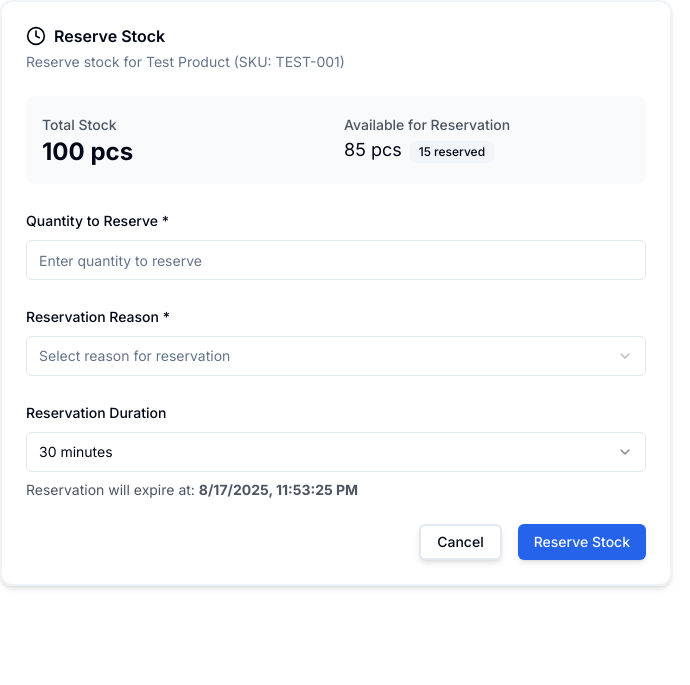
Test: StockReservationForm › shows warning for high percentage reservations
Check: the text "85 pcs" is shown, box [344,139,494,163]
Type "70" into the number field labelled "Quantity to Reserve *" at (336, 260), box [26,240,646,280]
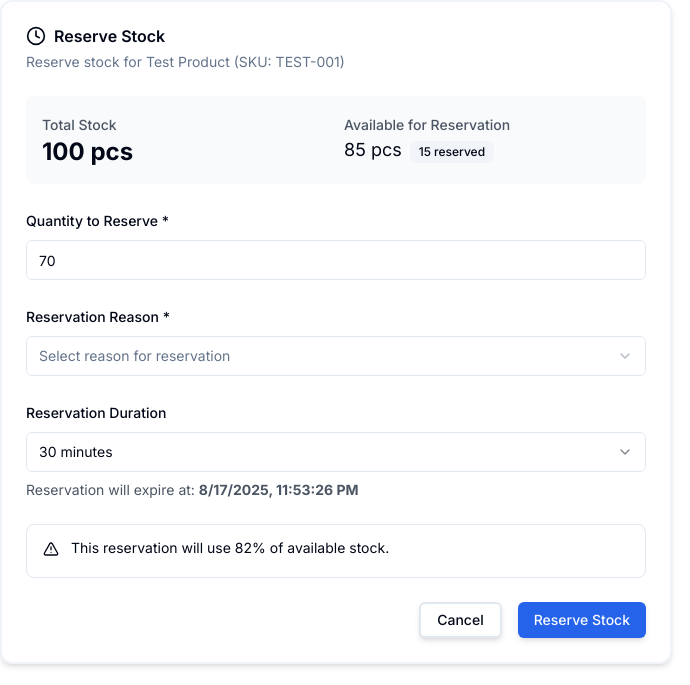
Check: the text "This reservation will use 82% of available stock." is shown, box [71,539,389,556]
